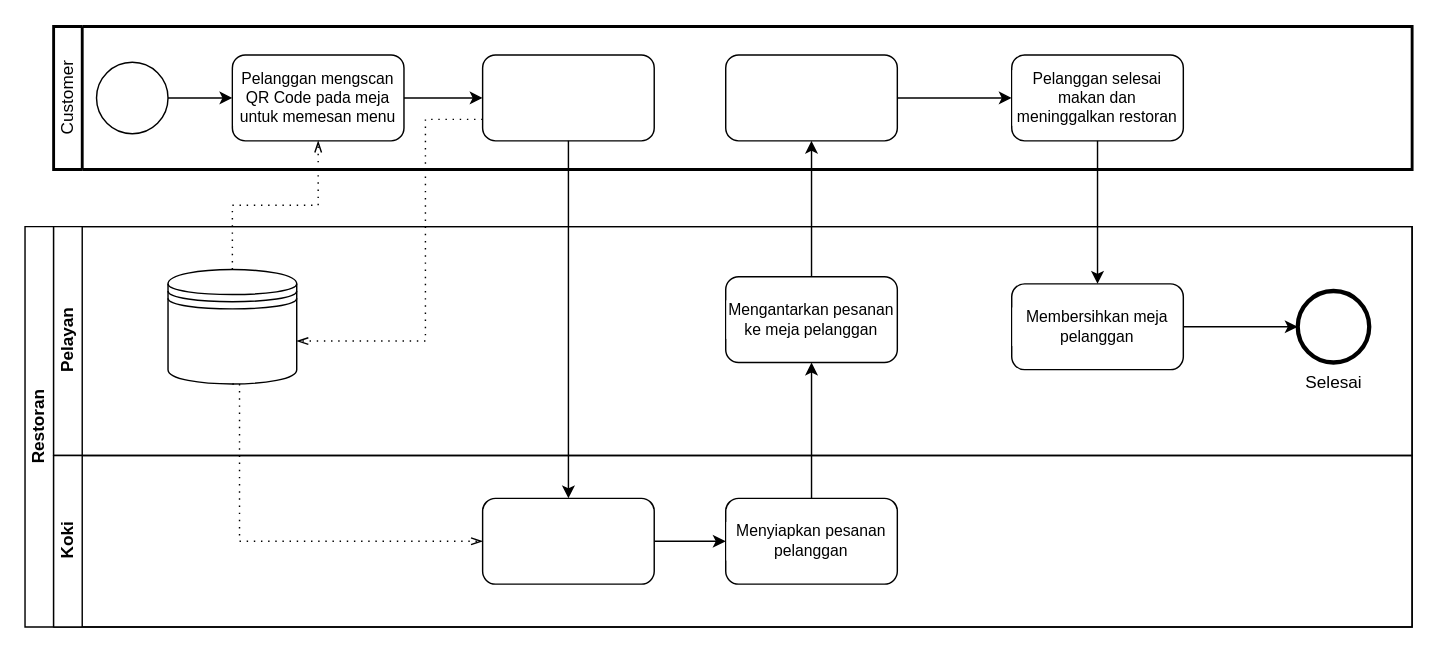
This 1439x652 diagram has some shape labels left out. The box of each missing label's shape, as (x1, y1, x2, y2) in pixels:
DB RMS Sky Pasta: (167, 268, 297, 384)
Koki menerima pesanan pada sistem: (481, 497, 654, 584)
Membayar tagihan pada sistem untuk memproses pesanan: (481, 54, 654, 141)
Menerima pesanan: (724, 54, 897, 141)
Mulai: (95, 61, 168, 134)
